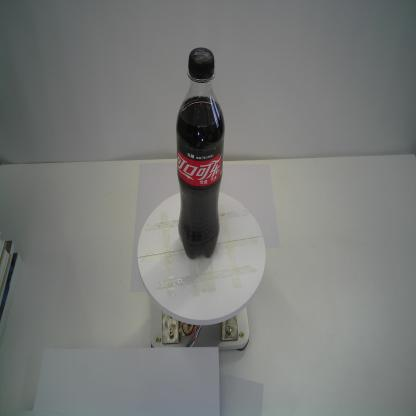Drink: (176, 46, 225, 260)
